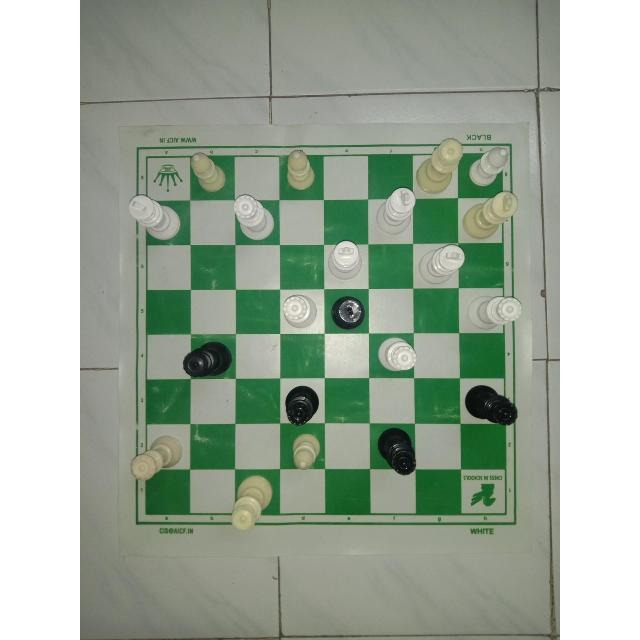black-king: (327, 290, 371, 332)
black-queen: (460, 380, 521, 429), (372, 426, 420, 480), (181, 340, 237, 381), (282, 385, 324, 429)
white-bishop: (468, 141, 512, 189), (182, 148, 226, 193), (281, 145, 320, 192), (285, 429, 323, 471)
white-king: (463, 190, 519, 244), (124, 194, 184, 242), (416, 242, 468, 286), (376, 186, 420, 236), (325, 235, 363, 283)
white-queen: (226, 472, 278, 534), (126, 433, 184, 487), (416, 133, 466, 195), (465, 290, 527, 334), (229, 192, 276, 242), (278, 289, 320, 333), (376, 335, 420, 375)
